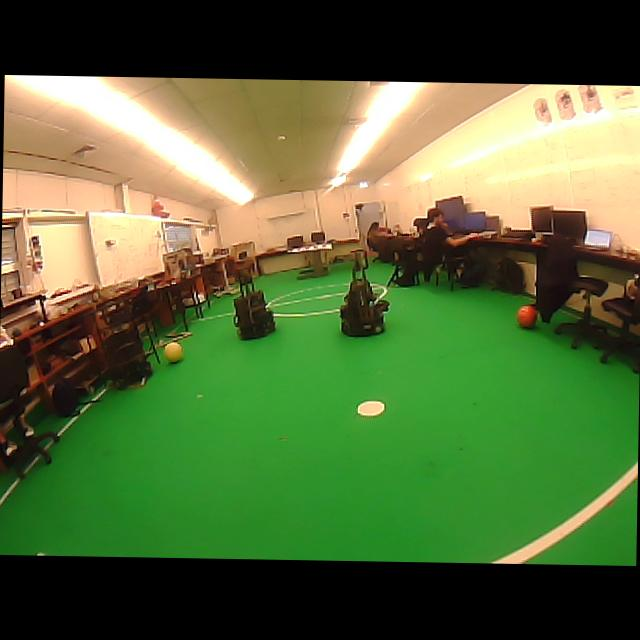ball: (163, 341, 183, 362), (516, 305, 535, 327)
robot: (339, 249, 389, 335), (234, 269, 275, 339)
